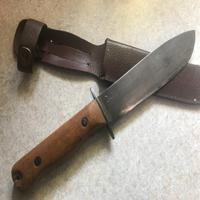knife: (10, 25, 198, 188)
